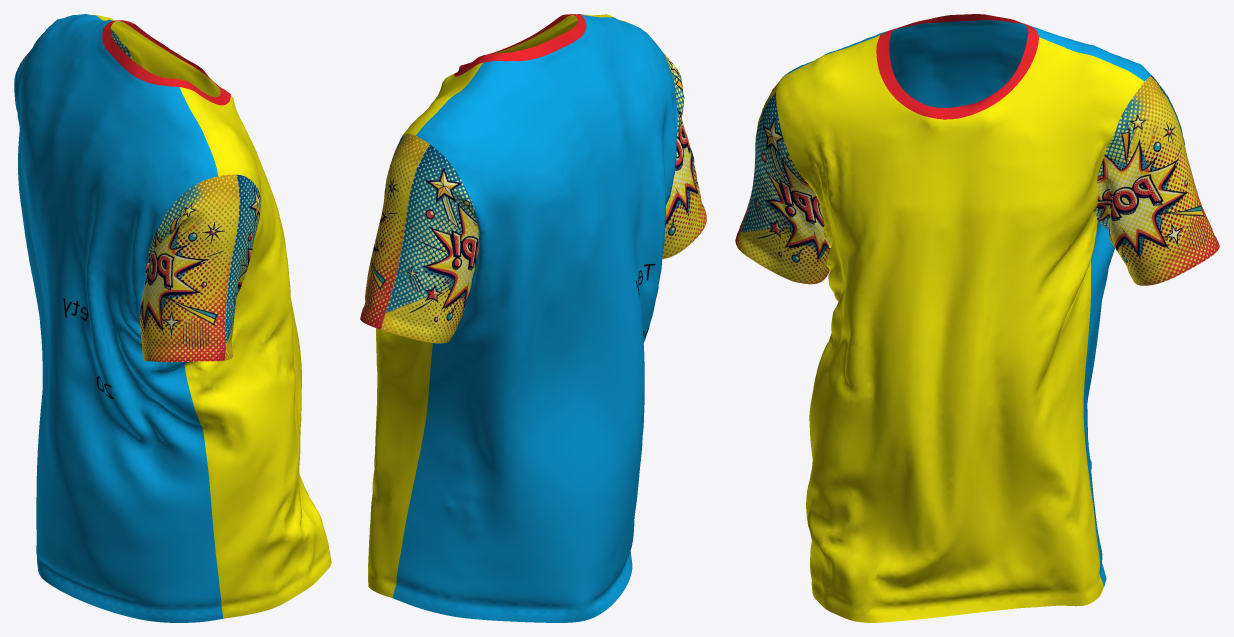
The model's file is camisa-02.glb.
3 renders of one model, left to right at view 1: azimuth 30°, elevation 25°; view 2: azimuth 150°, elevation 25°; view 3: azimuth 270°, elevation 25°, orthographic. The views are drawn at different scales.
Parts seen in each view (by area): view 1: Material1722, Material1718, Material1724, Material1720; view 2: Material1722, Material1724, Material1718, Material1720; view 3: Material1718, Material1724, Material1722, Material1720.
Boxes of the visible parts, x1,y1,x2,y2 form: Material1722: [14, 14, 223, 622]; Material1718: [88, 14, 331, 618]; Material1724: [16, 29, 260, 362]; Material1720: [102, 20, 230, 105]; Material1722: [392, 14, 677, 622]; Material1724: [360, 41, 706, 343]; Material1718: [368, 14, 629, 597]; Material1720: [454, 14, 586, 76]; Material1718: [776, 35, 1144, 622]; Material1724: [735, 75, 1219, 285]; Material1722: [783, 20, 1151, 586]; Material1720: [876, 14, 1038, 119].
Size of the model in its own units: 328 by 709 by 569.
Materials: 4 (4 with a texture image).
